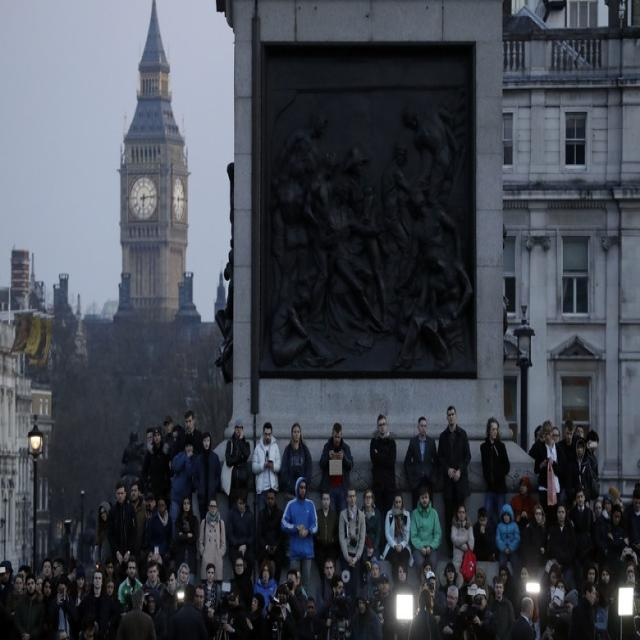body: (268, 86, 472, 372), (0, 551, 527, 640), (527, 422, 640, 639), (435, 402, 472, 560), (280, 476, 319, 590), (120, 414, 183, 482), (478, 415, 512, 524), (337, 483, 368, 601), (318, 421, 356, 517), (105, 481, 140, 585), (378, 489, 415, 587), (168, 438, 200, 550), (254, 487, 285, 601), (403, 415, 438, 511), (278, 421, 314, 511), (410, 486, 443, 584), (218, 416, 252, 511), (312, 488, 340, 602), (190, 429, 223, 522), (251, 421, 283, 513), (197, 495, 227, 590), (224, 489, 256, 578), (369, 412, 397, 512), (532, 418, 564, 505), (165, 582, 210, 638), (73, 568, 112, 632), (386, 560, 418, 638), (173, 494, 199, 588), (510, 476, 536, 570), (566, 484, 596, 560), (116, 586, 158, 639), (484, 573, 517, 639), (556, 418, 580, 508), (13, 573, 45, 640), (405, 583, 443, 639), (458, 587, 495, 640), (359, 488, 384, 566), (145, 494, 174, 561), (348, 587, 384, 640), (606, 503, 631, 579), (46, 575, 75, 640), (495, 501, 521, 571), (450, 502, 475, 574), (549, 501, 573, 573), (623, 486, 640, 586), (513, 562, 540, 624), (315, 574, 345, 629), (286, 567, 308, 640), (437, 583, 465, 639), (126, 481, 148, 551), (97, 575, 121, 639), (229, 554, 255, 613), (253, 558, 279, 617), (595, 567, 616, 640), (570, 433, 592, 501), (222, 589, 251, 640), (93, 498, 112, 573), (472, 505, 497, 562), (176, 409, 205, 457), (116, 556, 144, 605), (372, 572, 392, 640), (578, 560, 599, 624), (590, 498, 610, 564), (315, 555, 336, 617), (284, 568, 308, 622), (139, 492, 160, 552), (510, 595, 538, 640), (245, 591, 269, 640), (580, 581, 599, 640), (362, 554, 381, 612), (204, 562, 222, 622), (303, 594, 325, 640), (532, 503, 550, 556), (141, 557, 166, 595), (72, 562, 90, 613), (497, 562, 516, 606), (148, 425, 168, 462), (10, 573, 26, 616), (104, 556, 122, 594), (548, 564, 562, 610), (547, 578, 568, 605), (161, 415, 174, 443)
